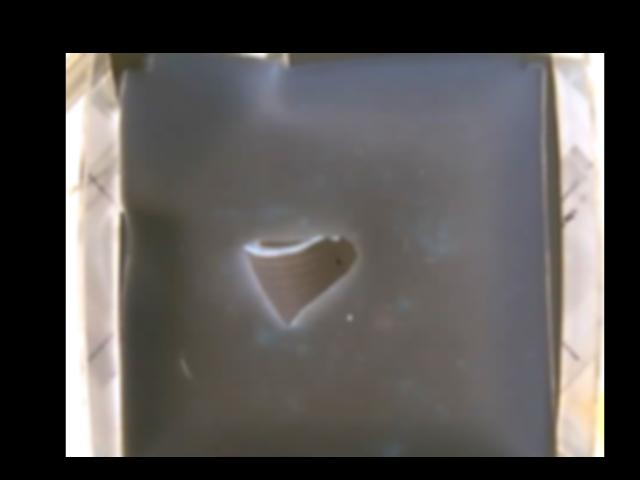China: (244, 233, 358, 328)
